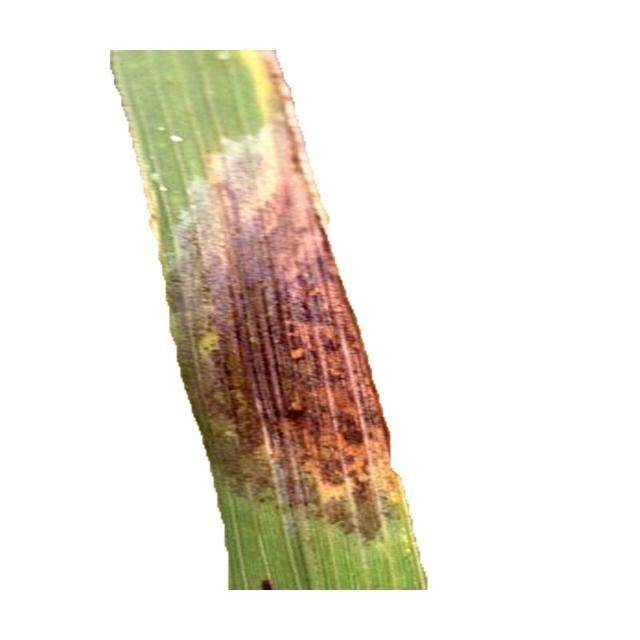Leaf scald: (96, 26, 486, 604)
